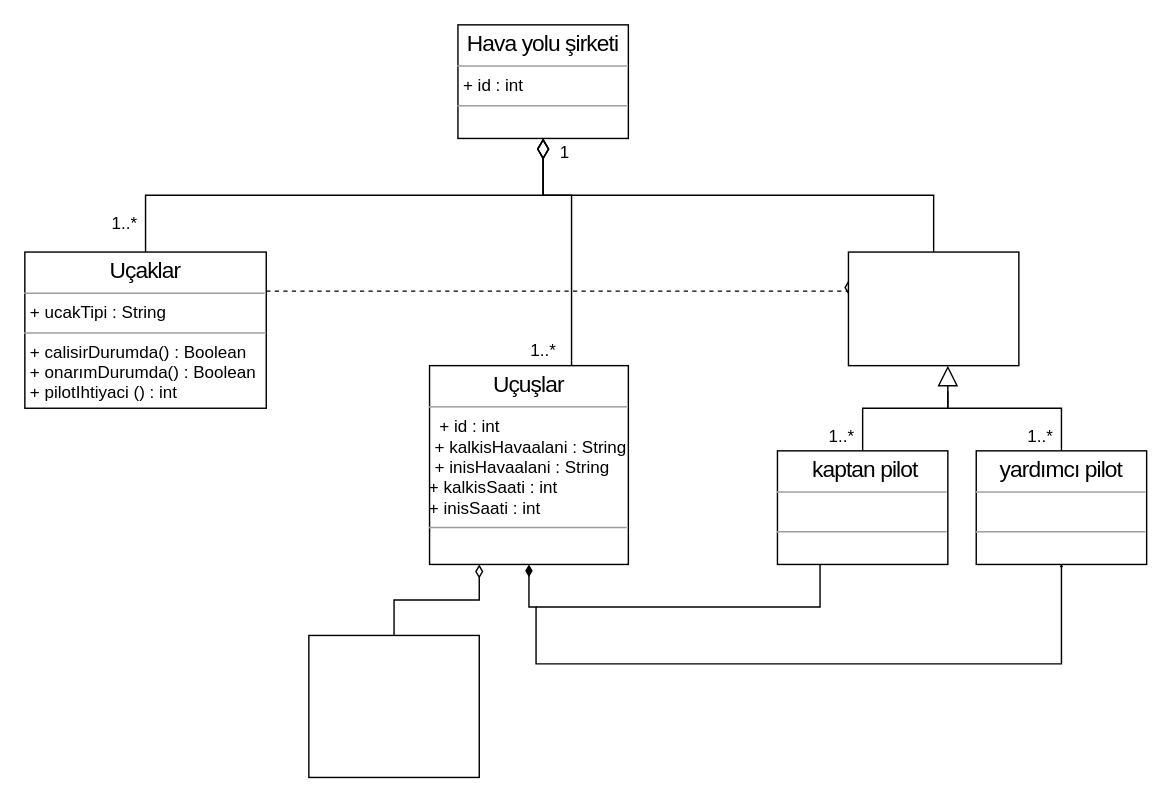
This 1172x802 diagram has some shape labels left out. The box of each missing label's shape, as (x1, y1, x2, y2) in pixels:
Havaalanı + id : int + isim : String: (307, 634, 479, 777)
pilot + tecrube : String: (847, 251, 1019, 366)
